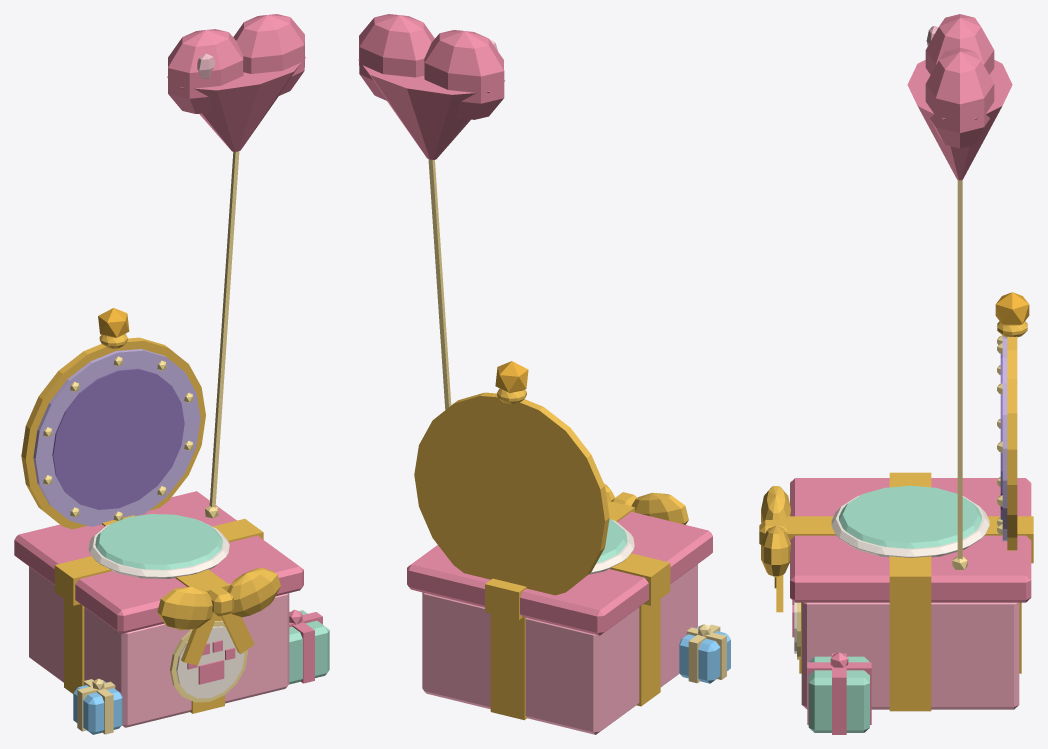
Rendered from CleanACat_Prop_GiftStand.fbx.
The picture shows the model from 3 angles, left to right: view 1: azimuth 30°, elevation 25°; view 2: azimuth 150°, elevation 25°; view 3: azimuth 270°, elevation 25°; orthographic projection. The views are drawn at different scales.
Visible parts, largest first — view 1: CleanACat_Prop_GiftStand, CleanACat_Prop_GiftStand_Balloon_Heart, CleanACat_Prop_GiftStand_Decor, CleanACat_Prop_GiftStand_Balloon, CleanACat_Prop_GiftStand_Lamp; view 2: CleanACat_Prop_GiftStand, CleanACat_Prop_GiftStand_Balloon_Heart, CleanACat_Prop_GiftStand_Decor, CleanACat_Prop_GiftStand_Balloon, CleanACat_Prop_GiftStand_Lamp; view 3: CleanACat_Prop_GiftStand, CleanACat_Prop_GiftStand_Balloon_Heart, CleanACat_Prop_GiftStand_Decor, CleanACat_Prop_GiftStand_Balloon, CleanACat_Prop_GiftStand_Lamp.
Boxes of the visible parts, bbox=[...] form: CleanACat_Prop_GiftStand: bbox=[14, 334, 303, 727]; CleanACat_Prop_GiftStand_Balloon_Heart: bbox=[167, 14, 305, 151]; CleanACat_Prop_GiftStand_Decor: bbox=[43, 356, 329, 734]; CleanACat_Prop_GiftStand_Balloon: bbox=[205, 151, 239, 518]; CleanACat_Prop_GiftStand_Lamp: bbox=[98, 308, 129, 338]; CleanACat_Prop_GiftStand: bbox=[407, 389, 712, 734]; CleanACat_Prop_GiftStand_Balloon_Heart: bbox=[358, 14, 504, 159]; CleanACat_Prop_GiftStand_Decor: bbox=[604, 483, 730, 683]; CleanACat_Prop_GiftStand_Balloon: bbox=[428, 159, 451, 409]; CleanACat_Prop_GiftStand_Lamp: bbox=[495, 361, 528, 392]; CleanACat_Prop_GiftStand: bbox=[787, 321, 1033, 711]; CleanACat_Prop_GiftStand_Balloon_Heart: bbox=[907, 14, 1012, 180]; CleanACat_Prop_GiftStand_Decor: bbox=[759, 335, 1002, 734]; CleanACat_Prop_GiftStand_Balloon: bbox=[952, 180, 967, 569]; CleanACat_Prop_GiftStand_Lamp: bbox=[995, 292, 1029, 325].
Size of the model in its own units: 3.73 by 7.65 by 2.77.
1 material, 1 textured.
